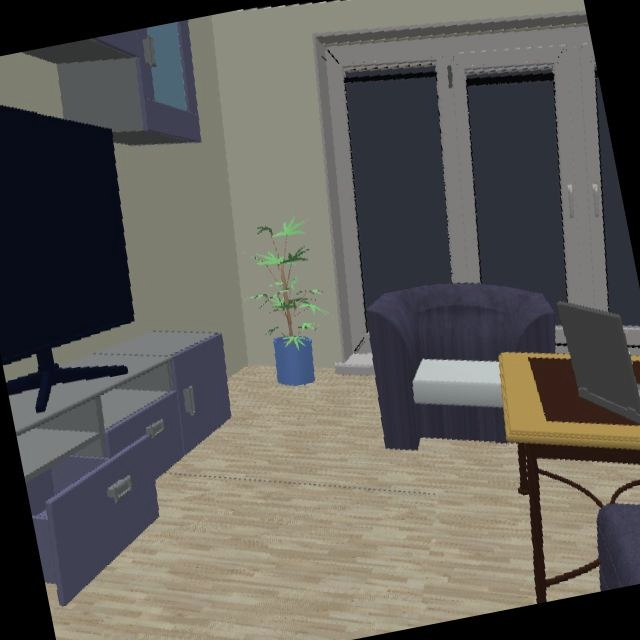cabinet: (9, 331, 231, 603), (26, 20, 201, 143)
laptop: (559, 302, 640, 425)
monitor: (0, 106, 134, 411)
sofa: (366, 284, 555, 451)
table: (499, 353, 640, 601)
